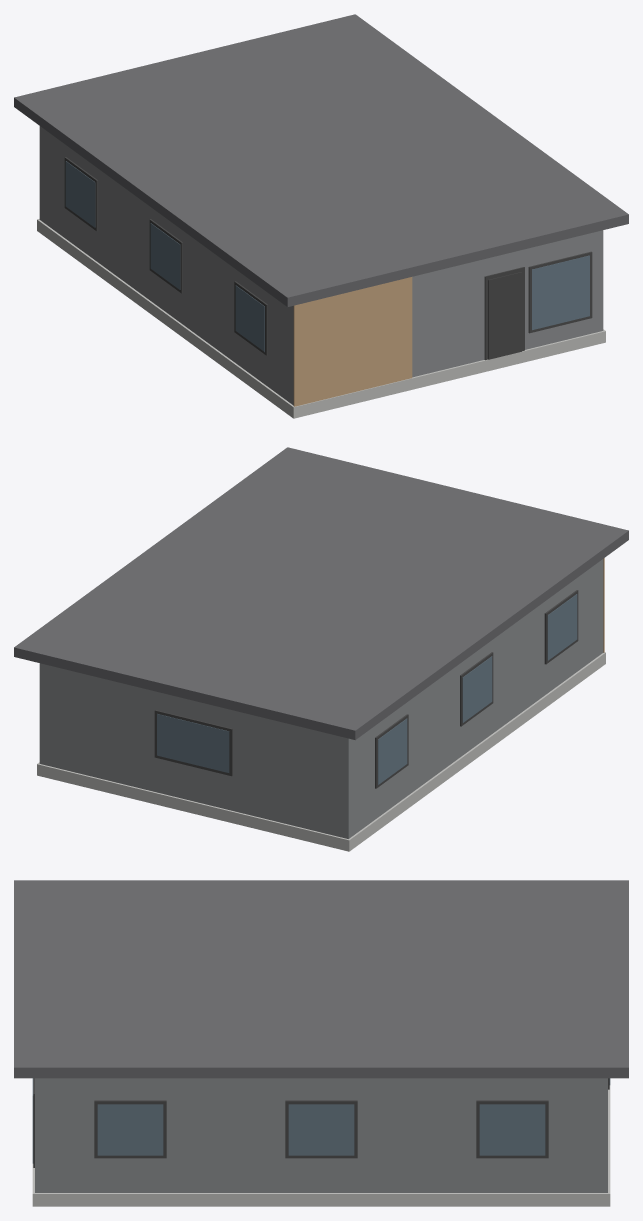
File: two-bed-two-bath-modern.glb
3 renders of one model, top to bottom at view 1: azimuth 30°, elevation 25°; view 2: azimuth 150°, elevation 25°; view 3: azimuth 270°, elevation 25°, orthographic. The views are drawn at different scales.
Visible parts, largest first — view 1: The Delta (modern); view 2: The Delta (modern); view 3: The Delta (modern).
Boxes of the visible parts, box(x1,y1,x2,y2) form: The Delta (modern): box(14, 14, 628, 418); The Delta (modern): box(14, 447, 628, 851); The Delta (modern): box(14, 880, 628, 1206).
Size of the model in its own units: 9.43 by 3.45 by 13.09.
